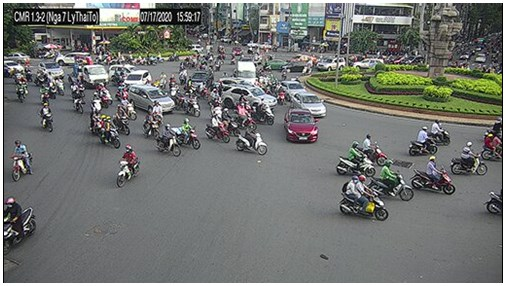xe_hoi: (223, 86, 278, 112), (129, 86, 173, 113), (285, 109, 317, 143), (291, 93, 327, 118), (220, 77, 267, 95), (111, 64, 147, 81), (278, 80, 306, 101), (56, 51, 95, 66), (188, 70, 213, 90), (39, 61, 64, 80), (123, 71, 152, 87), (4, 61, 30, 77), (317, 57, 345, 70), (282, 60, 312, 72), (2, 52, 31, 62), (350, 60, 384, 68), (267, 58, 289, 70), (401, 57, 425, 65), (392, 56, 404, 64)
xe_khach: (235, 61, 256, 85)
xe_may: (340, 176, 387, 221), (4, 197, 37, 257), (411, 155, 455, 195), (372, 159, 413, 199), (337, 141, 375, 177), (452, 141, 488, 176), (116, 144, 141, 187), (357, 135, 390, 167), (237, 123, 267, 156), (10, 140, 33, 183), (175, 118, 201, 151), (408, 126, 436, 156), (205, 113, 231, 145), (158, 124, 181, 159), (100, 114, 120, 150), (427, 120, 450, 148), (220, 108, 241, 138), (481, 134, 504, 161), (112, 105, 130, 137), (237, 101, 256, 131), (142, 110, 159, 139), (256, 101, 275, 126), (40, 102, 54, 134), (119, 97, 138, 120), (89, 106, 103, 136), (485, 117, 502, 141), (186, 94, 200, 118), (15, 80, 28, 104), (96, 82, 108, 106), (152, 99, 162, 127), (173, 89, 186, 110), (72, 91, 83, 113), (46, 78, 57, 100), (40, 83, 51, 105), (92, 91, 102, 115), (113, 83, 128, 99), (10, 67, 23, 84), (210, 90, 221, 110), (55, 77, 65, 96), (25, 65, 34, 83), (111, 69, 121, 85), (278, 85, 285, 107), (35, 70, 44, 87), (169, 75, 178, 89), (160, 71, 167, 88), (213, 59, 221, 70), (200, 57, 207, 69)
